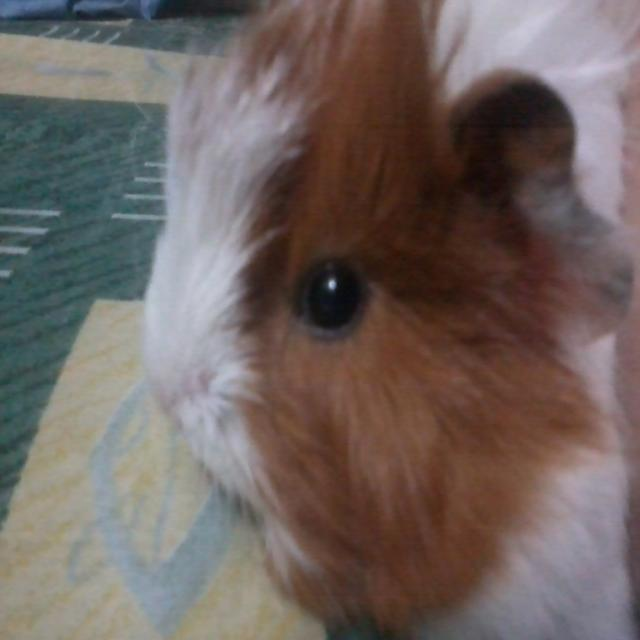rat: (120, 0, 639, 639)
